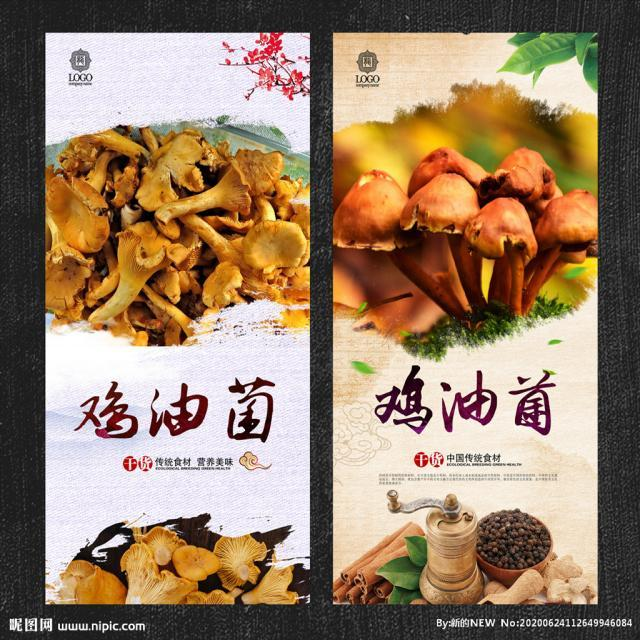Cantharellus cibarius: (48, 130, 304, 338), (337, 148, 594, 309), (60, 528, 296, 609)
